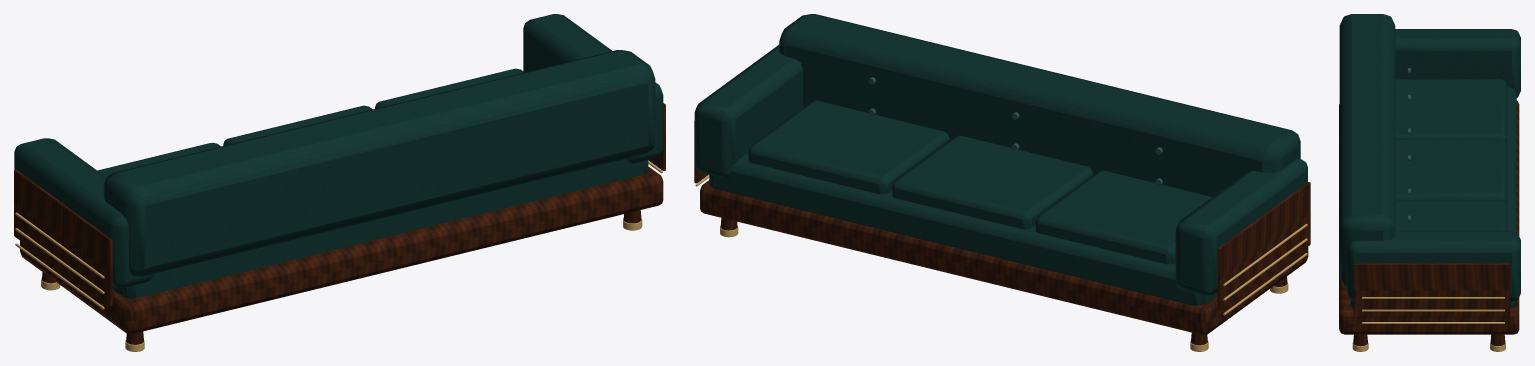
File: hotel-sofa.glb
The picture shows the model from 3 angles, left to right: view 1: azimuth 30°, elevation 25°; view 2: azimuth 150°, elevation 25°; view 3: azimuth 270°, elevation 25°; orthographic projection. The views are drawn at different scales.
Visible parts, largest first — view 1: Static | Petrol velvet | original woven texture.003, Static | Walnut | original longitudinal grain.003, Static | Aged champagne brass.003; view 2: Static | Petrol velvet | original woven texture.003, Static | Walnut | original longitudinal grain.003, Static | Aged champagne brass.003; view 3: Static | Petrol velvet | original woven texture.003, Static | Walnut | original longitudinal grain.003, Static | Aged champagne brass.003, Static | Upholstery piping.003.
Part boxes in pixels (x1,y1,x2,y2): Static | Petrol velvet | original woven texture.003: (14, 14, 663, 298); Static | Walnut | original longitudinal grain.003: (14, 103, 665, 344); Static | Aged champagne brass.003: (15, 161, 662, 351); Static | Petrol velvet | original woven texture.003: (694, 14, 1307, 305); Static | Walnut | original longitudinal grain.003: (694, 121, 1310, 345); Static | Aged champagne brass.003: (695, 175, 1307, 351); Static | Petrol velvet | original woven texture.003: (1339, 14, 1520, 308); Static | Walnut | original longitudinal grain.003: (1339, 100, 1519, 346); Static | Aged champagne brass.003: (1352, 297, 1505, 351); Static | Upholstery piping.003: (1407, 68, 1410, 221).
Bounding box in the file's own units: 3.8 × 1.08 × 1.31.
4 materials, 2 textured.
